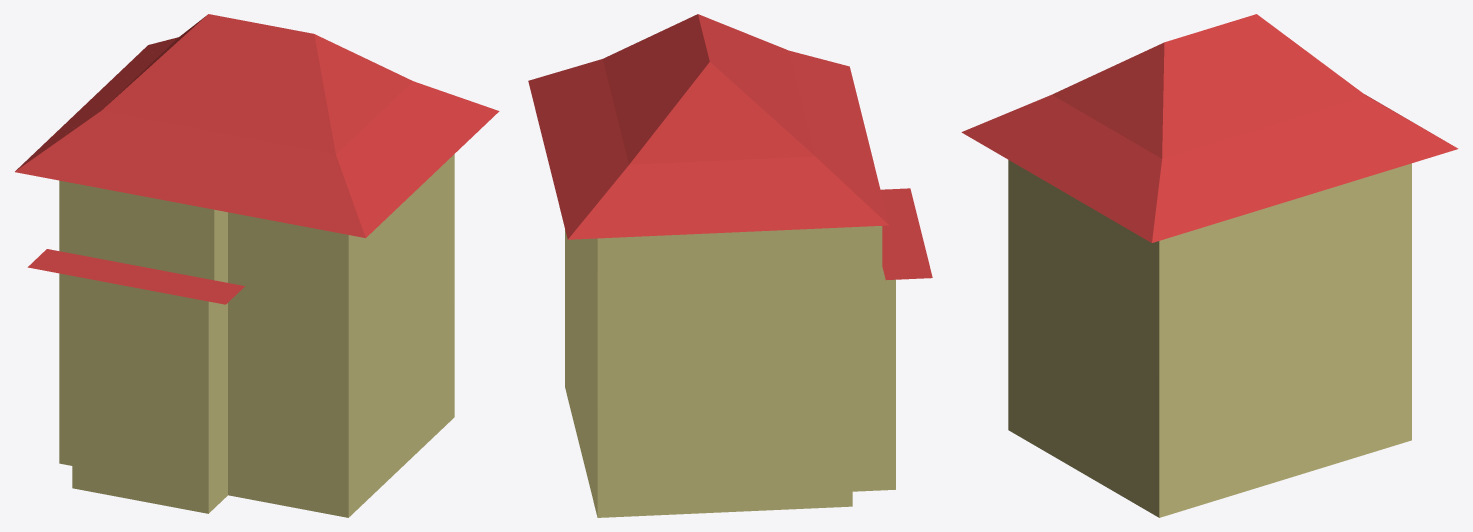
3 renders of one model, left to right at view 1: azimuth 30°, elevation 25°; view 2: azimuth 150°, elevation 25°; view 3: azimuth 270°, elevation 25°, orthographic.
Parts seen in each view (by area): view 1: group_5, group_3, group_9, group_4, group_7, group_8; view 2: group_5, group_3, group_4, group_7, group_9, group_8; view 3: group_5, group_3, group_4.
Part boxes in pixels (box(x1,y1,x2,y2)): group_5: box(59, 154, 454, 517); group_3: box(15, 14, 452, 237); group_9: box(72, 276, 214, 513); group_4: box(15, 41, 499, 237); group_7: box(27, 249, 244, 304); group_8: box(29, 249, 244, 304); group_5: box(565, 226, 882, 517); group_3: box(528, 14, 888, 239); group_4: box(528, 59, 888, 239); group_7: box(880, 188, 932, 279); group_9: box(882, 267, 895, 490); group_8: box(881, 188, 932, 279); group_5: box(1008, 160, 1411, 517); group_3: box(962, 14, 1458, 242); group_4: box(962, 94, 1452, 242).
Size of the model in its own units: 14.96 by 14.8 by 13.43.
